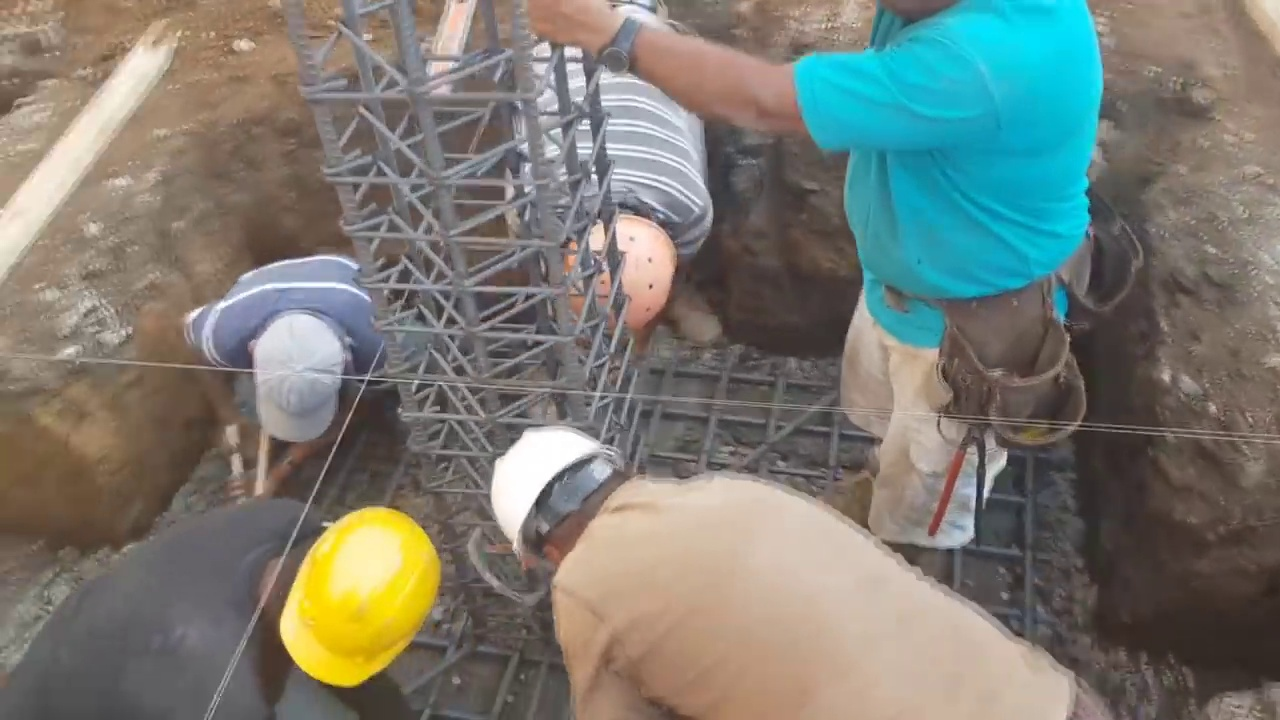helmet: (277, 514, 441, 686), (487, 421, 617, 579), (568, 215, 682, 332)
helmet-off: (247, 310, 352, 446)
helmet-on: (241, 503, 442, 696), (487, 423, 650, 593), (550, 198, 685, 339)
person: (515, 0, 1117, 564), (485, 423, 1135, 720), (9, 489, 442, 720), (510, 0, 734, 340), (180, 249, 428, 486)
